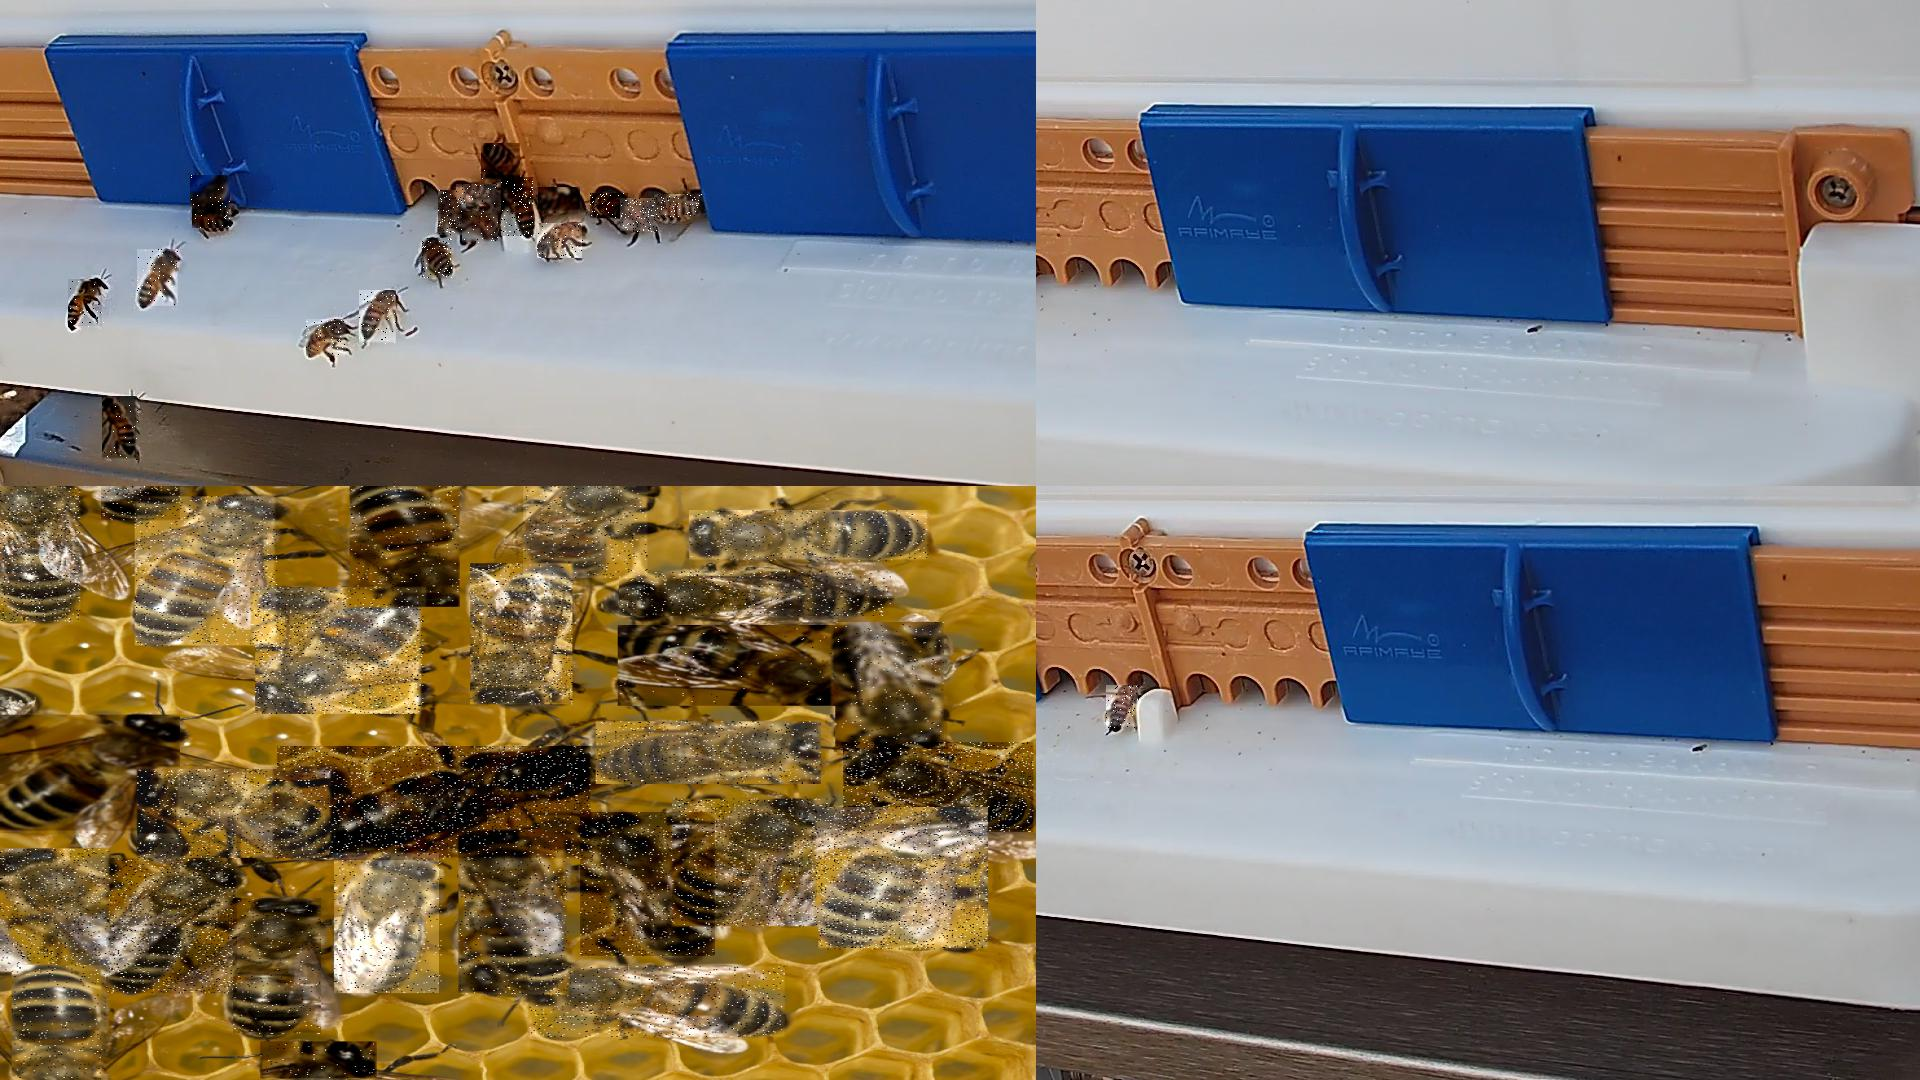bee: (819, 807, 989, 951), (256, 587, 426, 715), (136, 497, 280, 646), (0, 716, 182, 833), (618, 625, 864, 707), (674, 799, 829, 927), (580, 812, 716, 957), (530, 967, 786, 1038), (460, 833, 571, 996), (138, 769, 336, 858), (107, 858, 237, 994), (843, 742, 1035, 833), (335, 855, 444, 994), (471, 563, 574, 705), (836, 622, 948, 749), (596, 723, 823, 785), (0, 848, 109, 973), (349, 487, 462, 608), (620, 571, 893, 617), (691, 510, 932, 562), (233, 899, 323, 1035), (524, 487, 649, 579), (0, 487, 82, 622), (12, 965, 108, 1079), (260, 1042, 378, 1080), (100, 487, 181, 521), (137, 249, 179, 307), (103, 397, 140, 462), (359, 291, 397, 345), (501, 178, 534, 237), (69, 280, 105, 330), (538, 223, 585, 258), (306, 319, 347, 357), (481, 144, 521, 182), (190, 175, 231, 210), (438, 191, 467, 237), (621, 199, 658, 233), (462, 212, 498, 245), (589, 194, 629, 219), (193, 204, 232, 229)
pollenbee: (1106, 686, 1139, 731), (422, 237, 454, 280), (655, 195, 704, 220), (538, 187, 582, 214), (458, 185, 498, 207)
queen: (278, 746, 592, 860)
